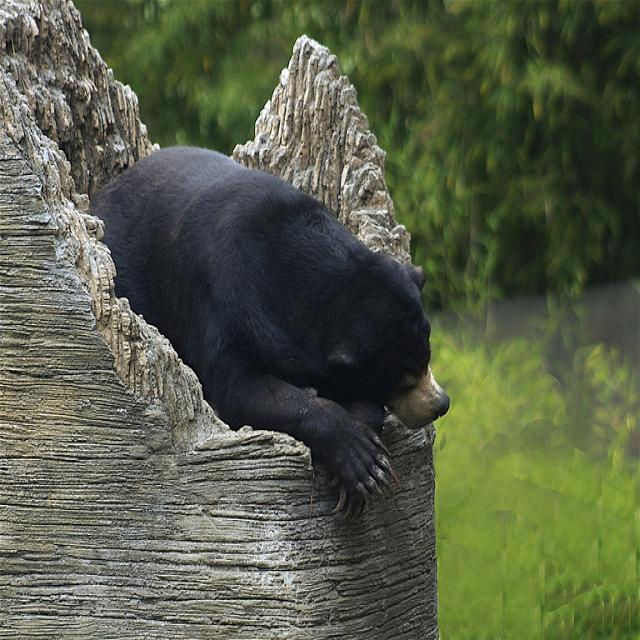Bear: (81, 141, 455, 510)
